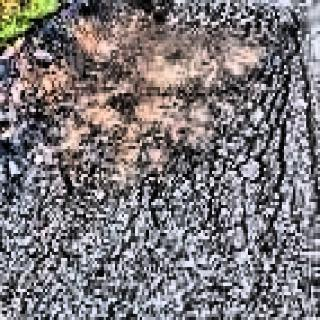alligator-crack: (150, 0, 320, 244)
pothole: (38, 4, 284, 200)
